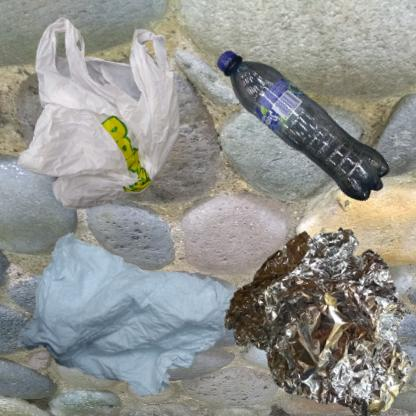aluminio: (213, 213, 416, 416)
bolsa: (10, 10, 204, 236)
botella: (213, 10, 416, 281)
papel: (10, 213, 281, 416)
